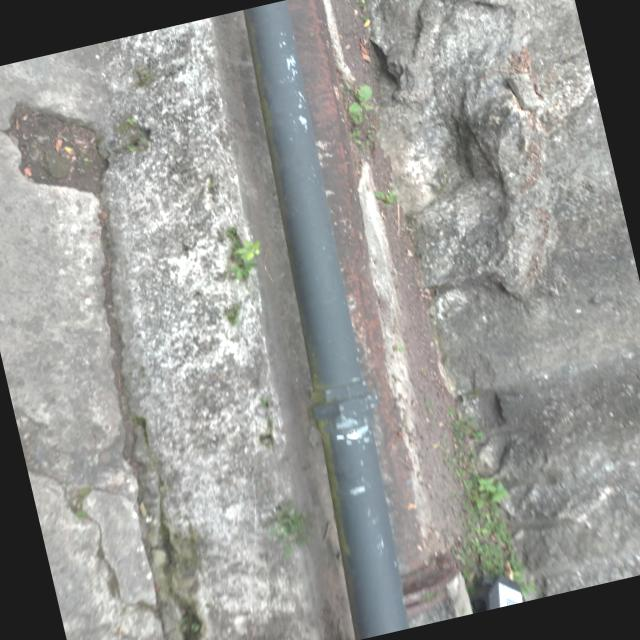gas: (212, 0, 431, 640)
